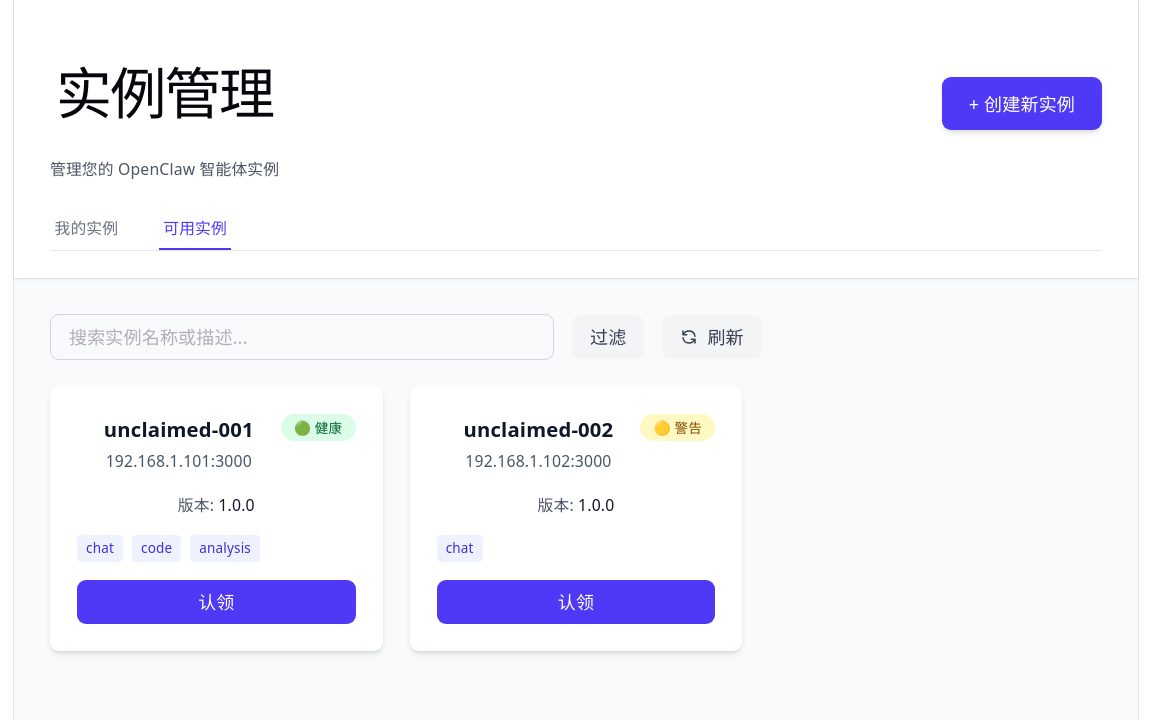
Test case: InstanceListPage › Claim Functionality › should show loading state during claim operation
Step 1. Click the button with test id "tab-unclaimed" → (195, 229), box [159,208,231,250]
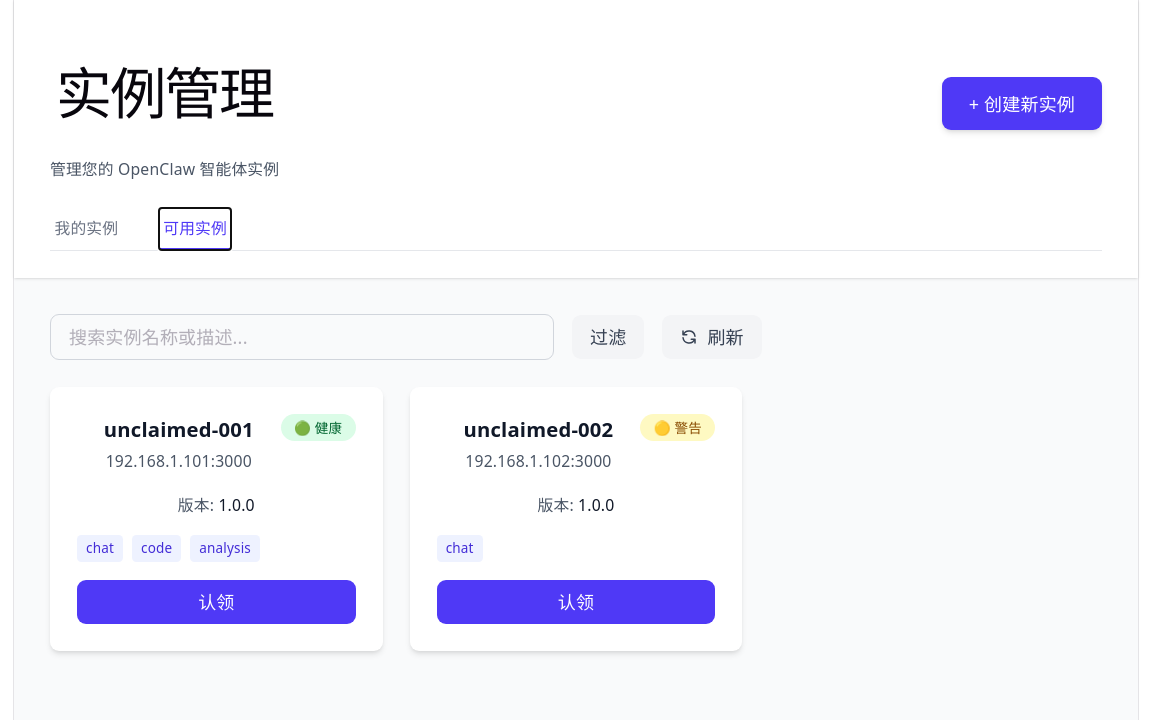
Step 2. Click the button with test id "claim-unclaimed-001" → (216, 602), box [77,580,356,624]
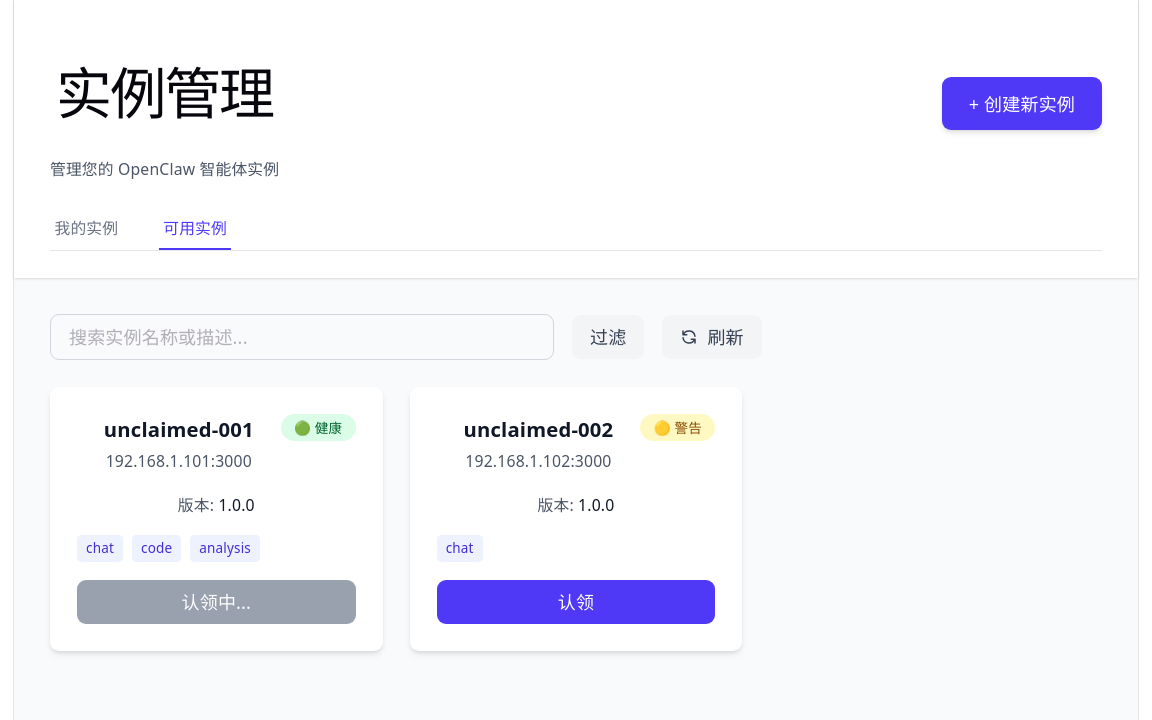
Now the button with test id "claim-unclaimed-001" is disabled, box [77,580,356,624]
Now the button with test id "claim-unclaimed-001" reads "认领中...", box [77,580,356,624]
